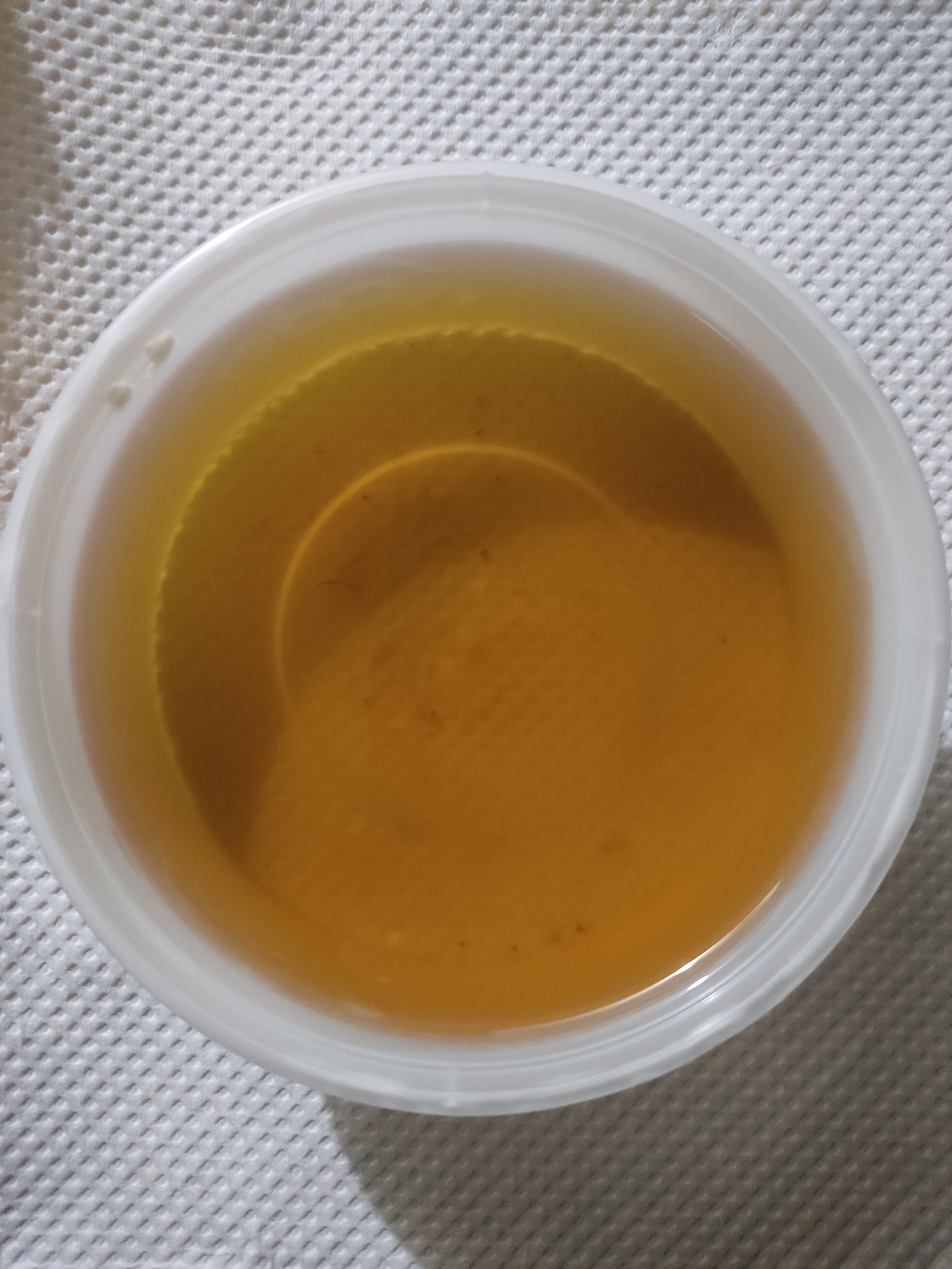reusable: (61, 229, 889, 1060)
